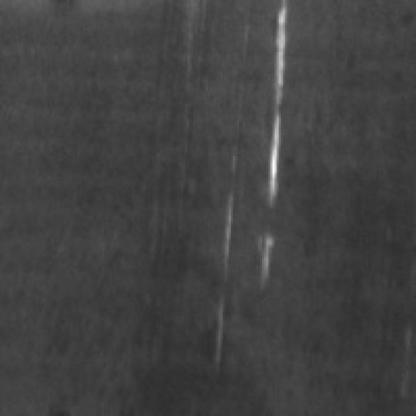scratches: (250, 0, 287, 277)
